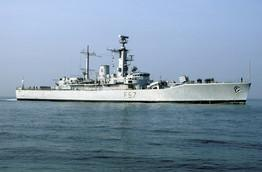warship: (13, 32, 255, 102)
